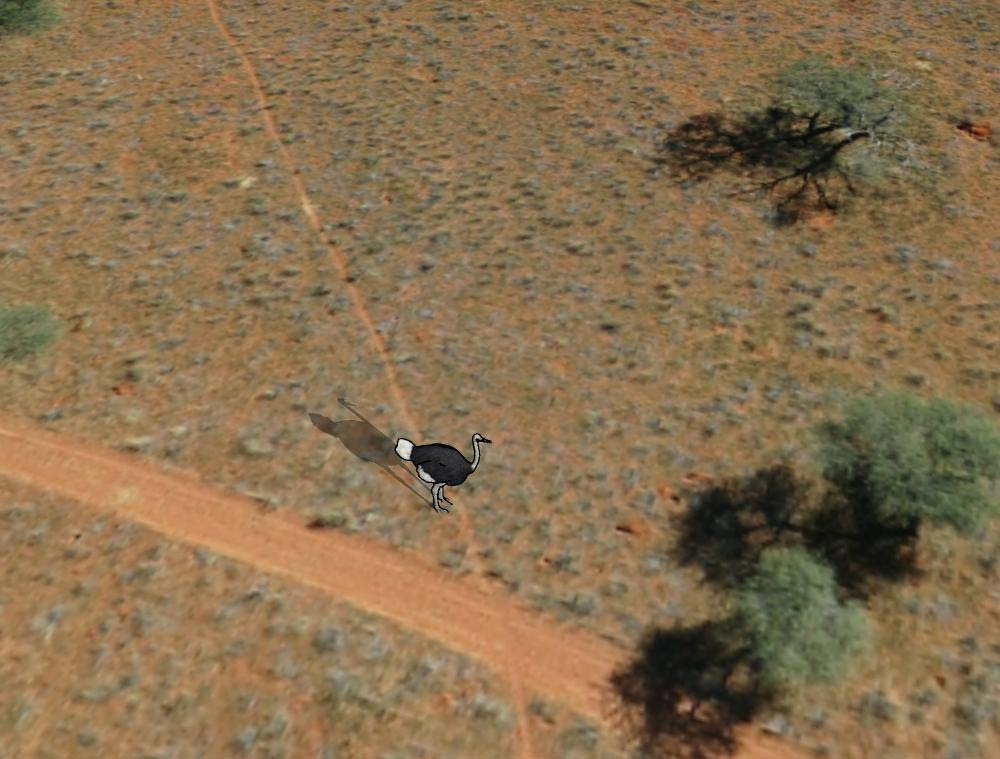ostrich: (391, 428, 491, 515)
